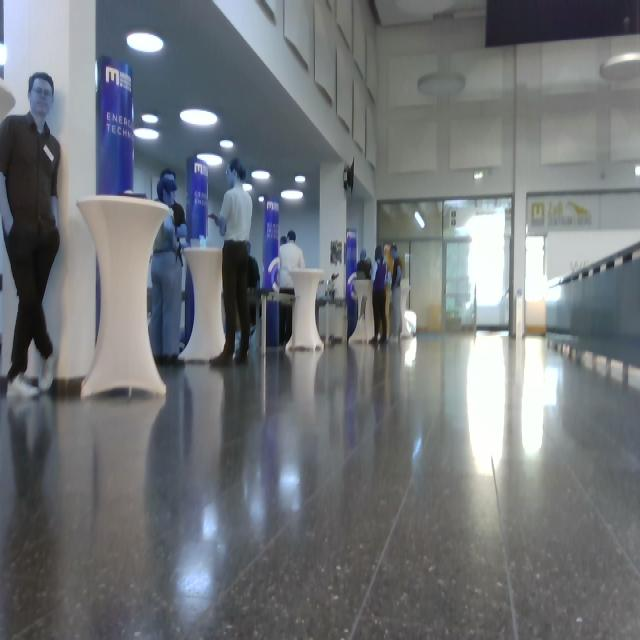door: (377, 196, 514, 336), (409, 239, 444, 335)
light bulb: (418, 72, 466, 98), (600, 52, 640, 81), (127, 32, 164, 53), (1, 78, 16, 124), (180, 108, 218, 126), (197, 153, 223, 166), (134, 128, 159, 141), (281, 189, 304, 201), (414, 210, 425, 229), (252, 170, 271, 180), (142, 113, 159, 124), (1, 43, 8, 67), (220, 140, 234, 149), (295, 176, 306, 184)
person: (1, 72, 62, 398), (209, 159, 253, 367), (149, 172, 187, 365), (277, 230, 306, 345), (369, 246, 388, 344), (389, 245, 404, 341)
tiled floor: (1, 329, 639, 638)
